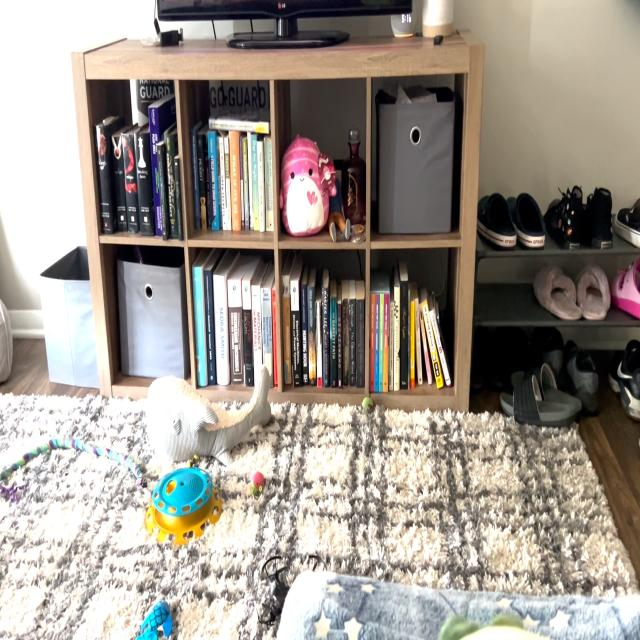drone: (252, 542, 335, 640)
